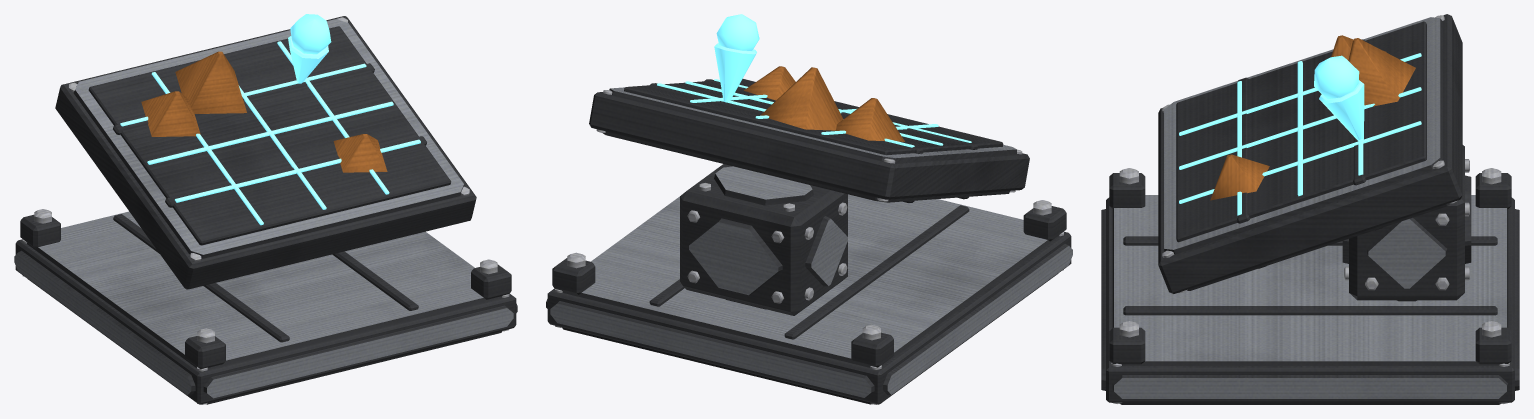
The model's file is R4X_Minimap.glb.
3 views of the same model, side by side, from view 1: azimuth 30°, elevation 25°; view 2: azimuth 150°, elevation 25°; view 3: azimuth 270°, elevation 25° (orthographic). The views are drawn at different scales.
Visible parts, largest first — view 1: R4X_Minimap_Body; view 2: R4X_Minimap_Body; view 3: R4X_Minimap_Body.
Boxes of the visible parts, left/top/right/bottom form: R4X_Minimap_Body: left=14, top=14, right=517, bottom=404; R4X_Minimap_Body: left=546, top=14, right=1072, bottom=404; R4X_Minimap_Body: left=1101, top=14, right=1519, bottom=404.
Size of the model in its own units: 0.52 by 0.403 by 0.52.
5 materials, 4 textured.
